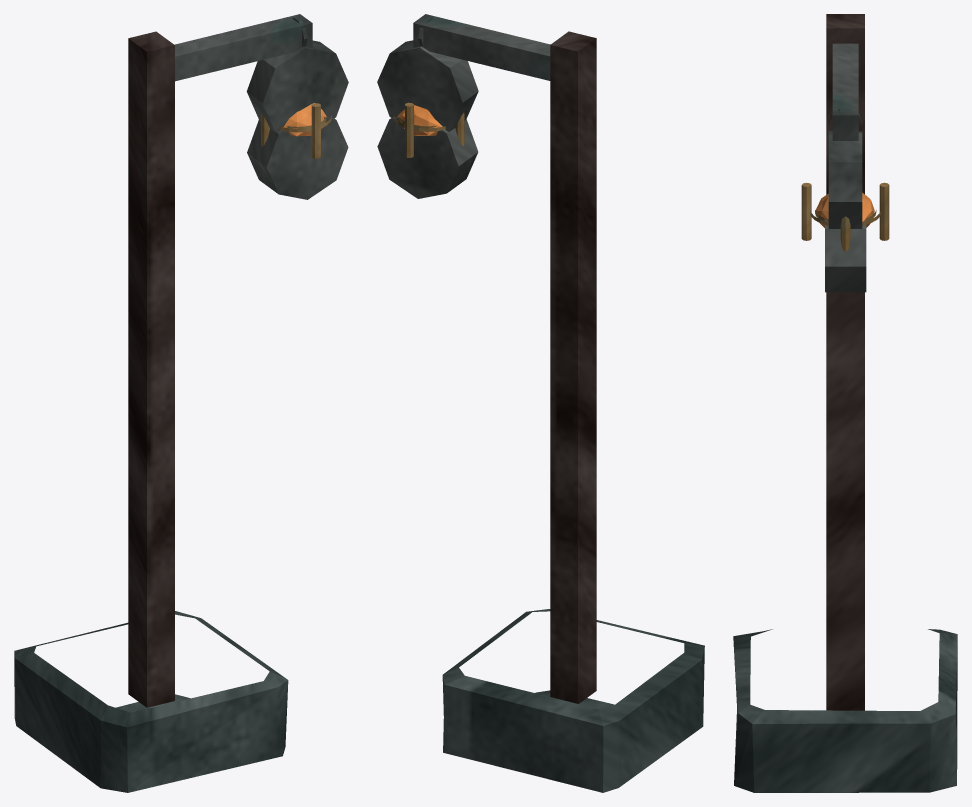
Rendered from 0724_lantern_post_24.glb.
3 views of the same model, side by side, from view 1: azimuth 30°, elevation 25°; view 2: azimuth 150°, elevation 25°; view 3: azimuth 270°, elevation 25° (orthographic). The views are drawn at different scales.
Parts seen in each view (by area): view 1: wood_dark, stone_dark, iron, brass; view 2: wood_dark, stone_dark, iron, brass; view 3: stone_dark, wood_dark, iron, brass, amber.
Boxes of the visible parts, <box> form: wood_dark: <box>128,31,174,707</box>; stone_dark: <box>14,611,288,792</box>; iron: <box>175,14,348,199</box>; brass: <box>261,103,331,158</box>; wood_dark: <box>550,31,596,703</box>; stone_dark: <box>442,609,704,792</box>; iron: <box>377,14,550,198</box>; brass: <box>394,102,464,157</box>; stone_dark: <box>733,629,957,792</box>; wood_dark: <box>826,14,864,710</box>; iron: <box>825,43,866,292</box>; brass: <box>801,182,889,252</box>; amber: <box>815,192,874,227</box>.
Bounding box in the file's own units: 1.3 × 3.12 × 0.8662.
Materials: 5 (5 with a texture image).
